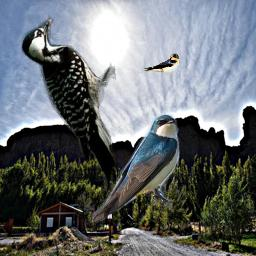Swallow: (88, 110, 183, 225), (137, 53, 179, 75)
Woodpecker: (20, 15, 116, 192)
